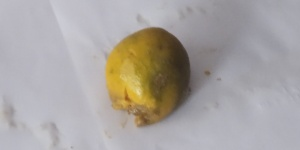BAD: (106, 26, 190, 124)
